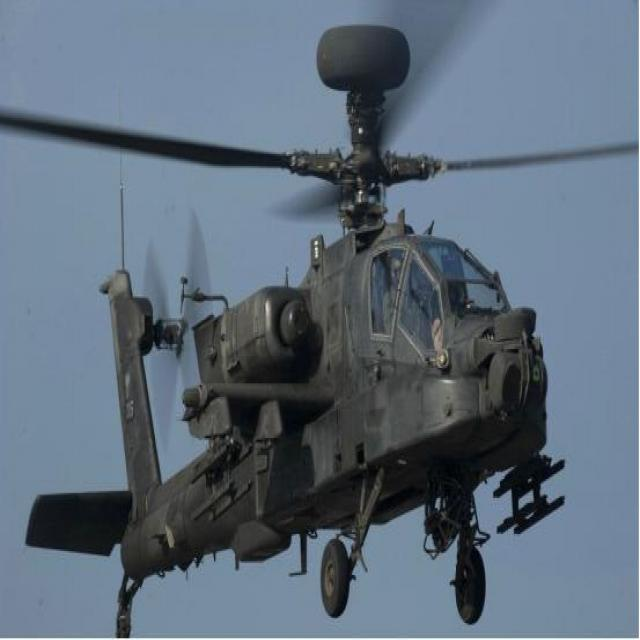MIL_HELO: (0, 36, 580, 633)
